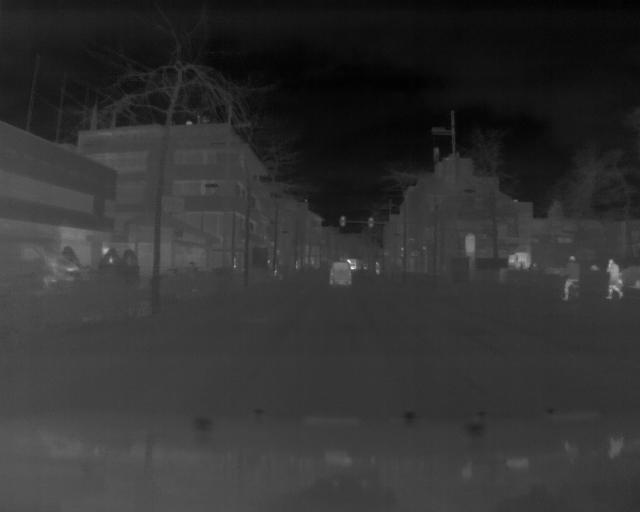car: (326, 258, 352, 286)
person: (602, 256, 624, 305), (561, 253, 580, 302)
